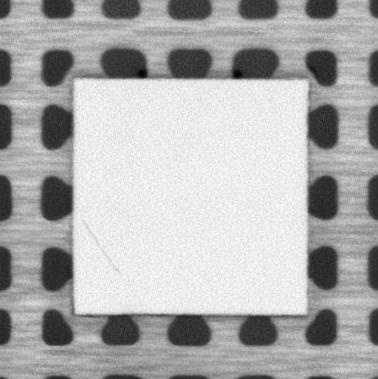DIE_CRACK: (83, 218, 119, 274)
